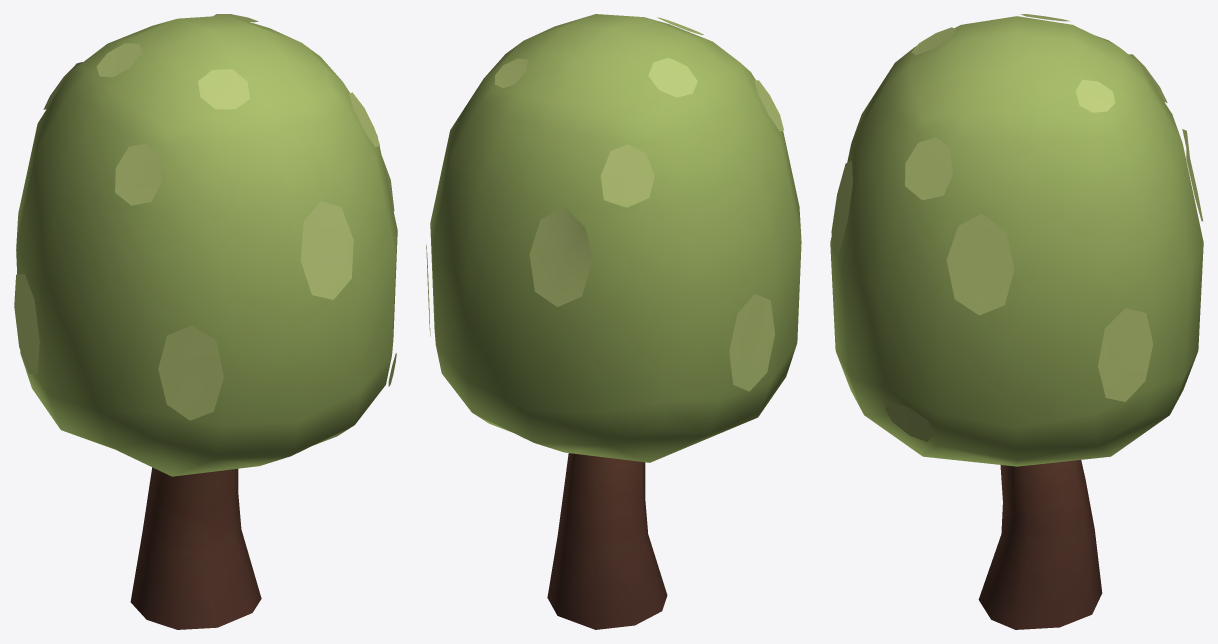
The model's file is Env_Nature_Tree_1.fbx.
3 renders of one model, left to right at view 1: azimuth 30°, elevation 25°; view 2: azimuth 150°, elevation 25°; view 3: azimuth 270°, elevation 25°, orthographic. The views are drawn at different scales.
Parts seen in each view (by area): view 1: Arvore_1_01; view 2: Arvore_1_01; view 3: Arvore_1_01.
Part boxes in pixels (x1=…): Arvore_1_01: x1=14, y1=14, x2=397, y2=629; Arvore_1_01: x1=426, y1=14, x2=801, y2=629; Arvore_1_01: x1=830, y1=14, x2=1203, y2=629.
Size of the model in its own units: 191 by 321 by 190.
